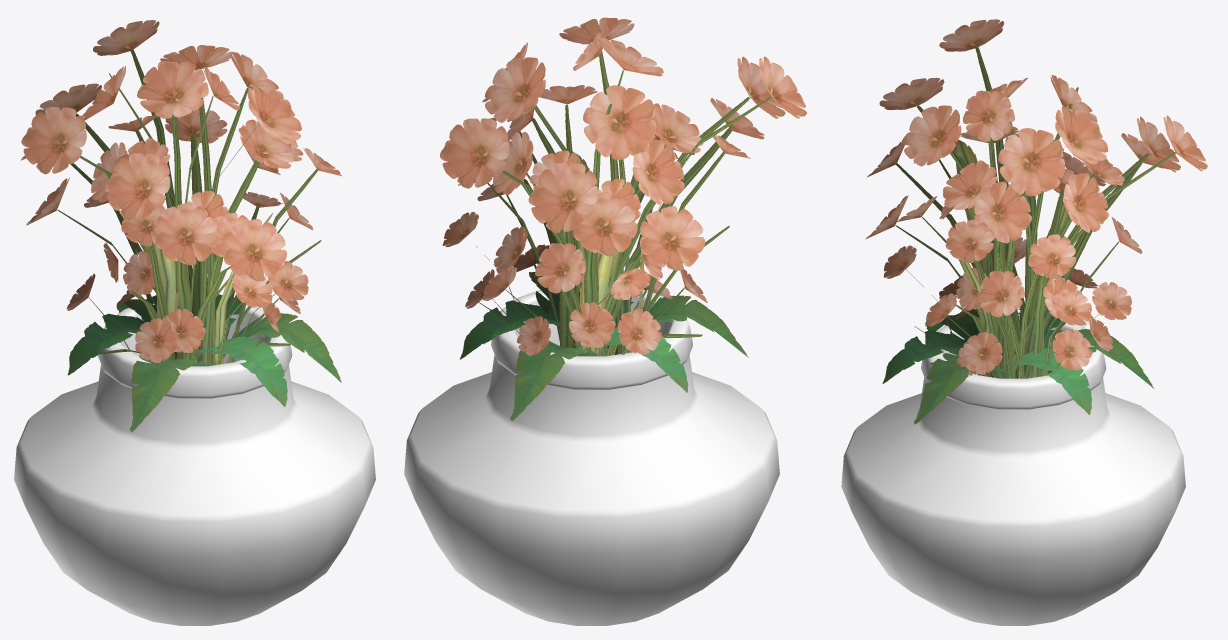
Rendered from SM_Potted_Soft_Pink_Flower_B.fbx.
3 views of the same model, side by side, from view 1: azimuth 30°, elevation 25°; view 2: azimuth 150°, elevation 25°; view 3: azimuth 270°, elevation 25° (orthographic). The views are drawn at different scales.
Visible parts, largest first — view 1: SM_Potted_Soft_Pink_Flower_B_LOD0; view 2: SM_Potted_Soft_Pink_Flower_B_LOD0; view 3: SM_Potted_Soft_Pink_Flower_B_LOD0.
Boxes of the visible parts, bbox=[...] form: SM_Potted_Soft_Pink_Flower_B_LOD0: bbox=[14, 20, 375, 625]; SM_Potted_Soft_Pink_Flower_B_LOD0: bbox=[404, 17, 806, 625]; SM_Potted_Soft_Pink_Flower_B_LOD0: bbox=[841, 19, 1207, 625].
Size of the model in its own units: 46.86 by 46.2 by 69.81.
Materials: 2 (1 with a texture image).
